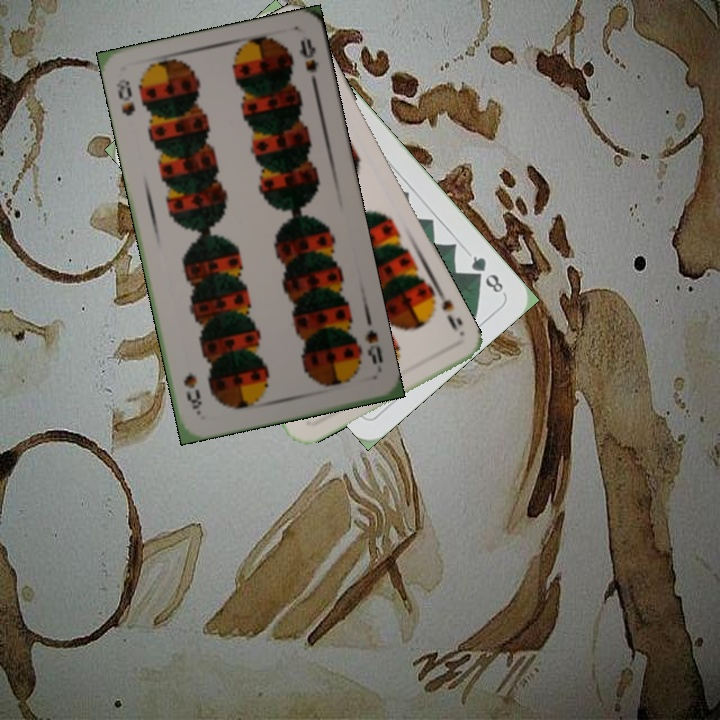G8: (467, 251, 506, 296)
S8: (361, 325, 386, 375), (111, 75, 138, 118)
S9: (424, 281, 466, 336)
